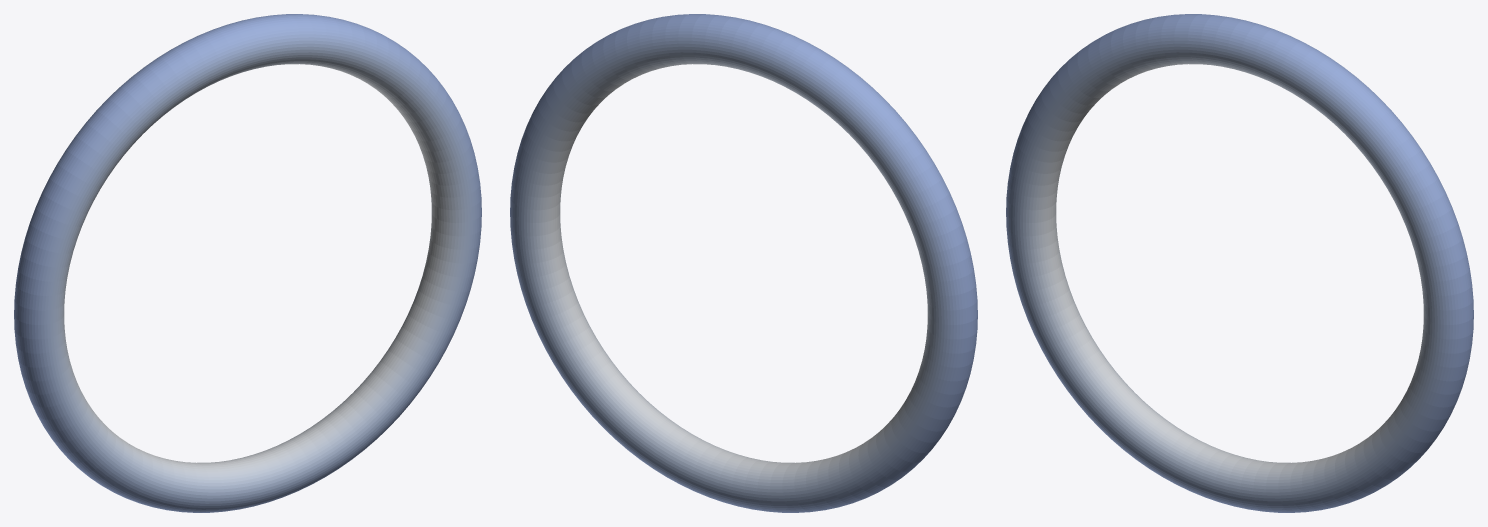
3 views of the same model, side by side, from view 1: azimuth 30°, elevation 25°; view 2: azimuth 150°, elevation 25°; view 3: azimuth 330°, elevation 25° (orthographic).
Parts seen in each view (by area): view 1: world; view 2: world; view 3: world.
Part boxes in pixels (box(x1,y1,x2,y2)): world: box(14, 14, 481, 512); world: box(510, 14, 977, 512); world: box(1006, 14, 1473, 512).
Size of the model in its own units: 30.67 by 30.67 by 2.88.
